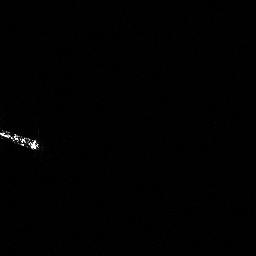ship: (1, 126, 44, 155)
